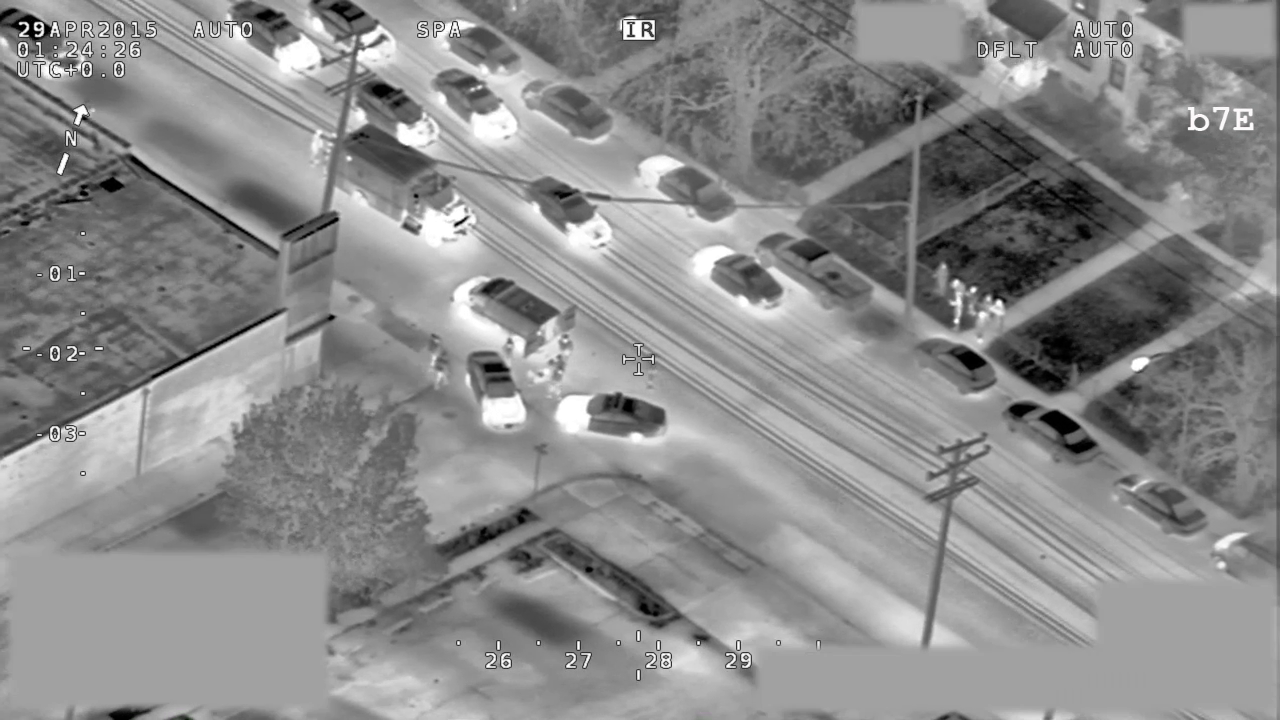vehicle: (326, 119, 479, 247), (447, 272, 583, 361), (757, 229, 877, 317), (632, 148, 739, 227), (1110, 470, 1212, 546), (999, 397, 1105, 469), (516, 72, 617, 146), (227, 1, 324, 76), (524, 174, 615, 251), (691, 241, 787, 313), (301, 1, 401, 69), (435, 64, 517, 145), (1, 6, 89, 81), (465, 347, 534, 439), (910, 330, 1000, 400), (555, 388, 668, 443), (432, 14, 524, 81), (357, 86, 440, 151), (1212, 528, 1280, 583)
